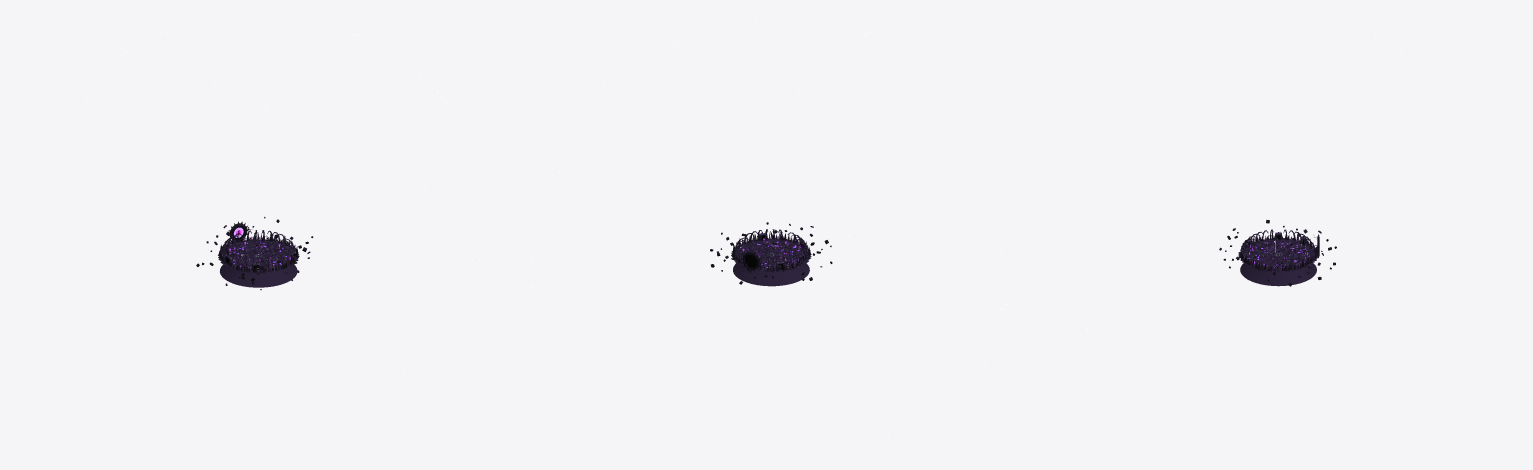
Rendered from instant-combat-void-rift.glb.
3 renders of one model, left to right at view 1: azimuth 30°, elevation 25°; view 2: azimuth 150°, elevation 25°; view 3: azimuth 270°, elevation 25°, orthographic.
Parts seen in each view (by area): view 1: instant-combat-void-rift; view 2: instant-combat-void-rift; view 3: instant-combat-void-rift.
Boxes of the visible parts, box(x1,y1,x2,y2) form: instant-combat-void-rift: box(14, 14, 501, 455); instant-combat-void-rift: box(530, 14, 1011, 455); instant-combat-void-rift: box(1040, 14, 1518, 455).
Bounding box in the file's own units: 513 × 390 × 517.
